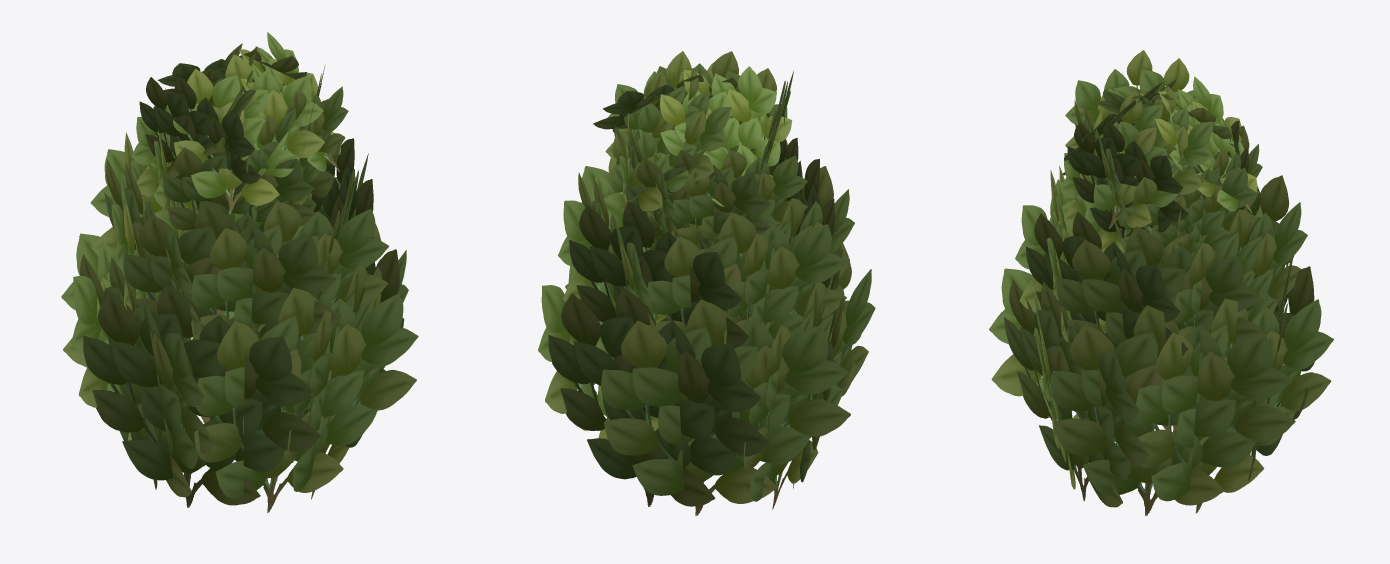
The model's file is bush4.fbx.
3 views of the same model, side by side, from view 1: azimuth 30°, elevation 25°; view 2: azimuth 150°, elevation 25°; view 3: azimuth 270°, elevation 25° (orthographic). The views are drawn at different scales.
Visible parts, largest first — view 1: dark_bush; view 2: dark_bush; view 3: dark_bush.
Boxes of the visible parts, bbox=[...] form: dark_bush: bbox=[61, 32, 418, 512]; dark_bush: bbox=[538, 51, 875, 515]; dark_bush: bbox=[989, 50, 1333, 515].
Size of the model in its own units: 1069 by 1296 by 1068.
